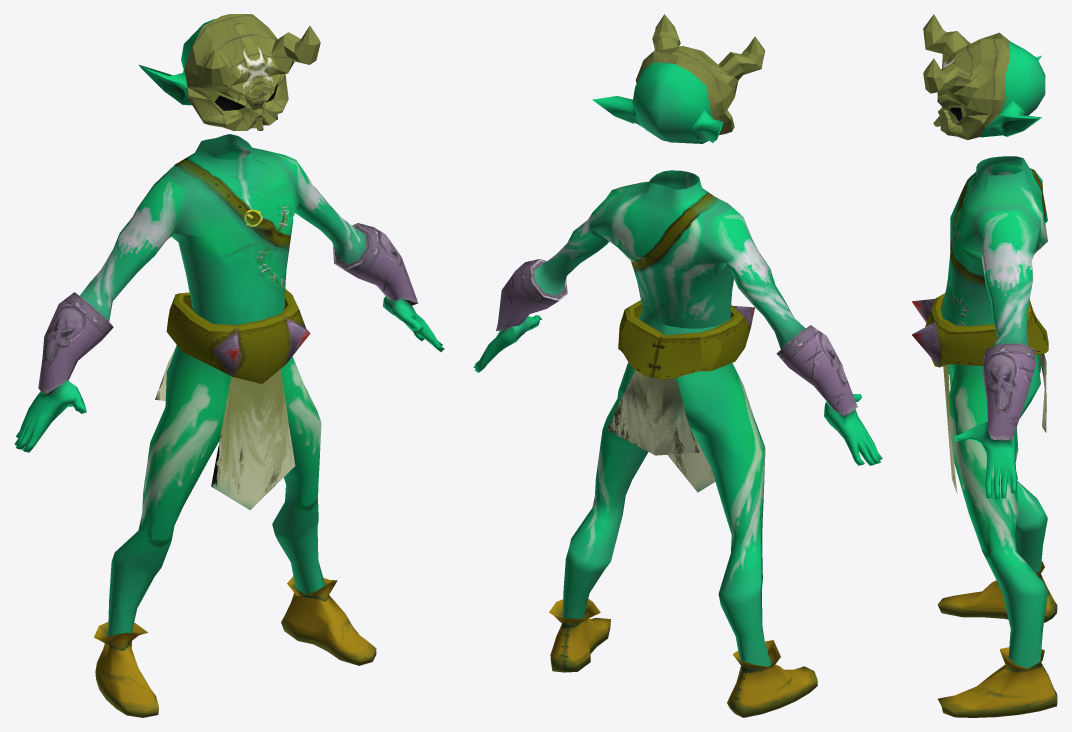
The model's file is GoblinHead.fbx.
3 renders of one model, left to right at view 1: azimuth 30°, elevation 25°; view 2: azimuth 150°, elevation 25°; view 3: azimuth 270°, elevation 25°, orthographic. The views are drawn at different scales.
Parts seen in each view (by area): view 1: polySurface15.004, polySurface15.002; view 2: polySurface15.004, polySurface15.002; view 3: polySurface15.004, polySurface15.002.
Boxes of the visible parts, left/top/right/bottom form: polySurface15.004: left=14, top=134, right=444, bottom=717; polySurface15.002: left=139, top=14, right=320, bottom=130; polySurface15.004: left=473, top=170, right=882, bottom=717; polySurface15.002: left=592, top=14, right=765, bottom=143; polySurface15.004: left=912, top=156, right=1057, bottom=717; polySurface15.002: left=923, top=14, right=1045, bottom=140.
Size of the model in its own units: 6.7 by 9.88 by 2.09.
1 material, 1 textured.
